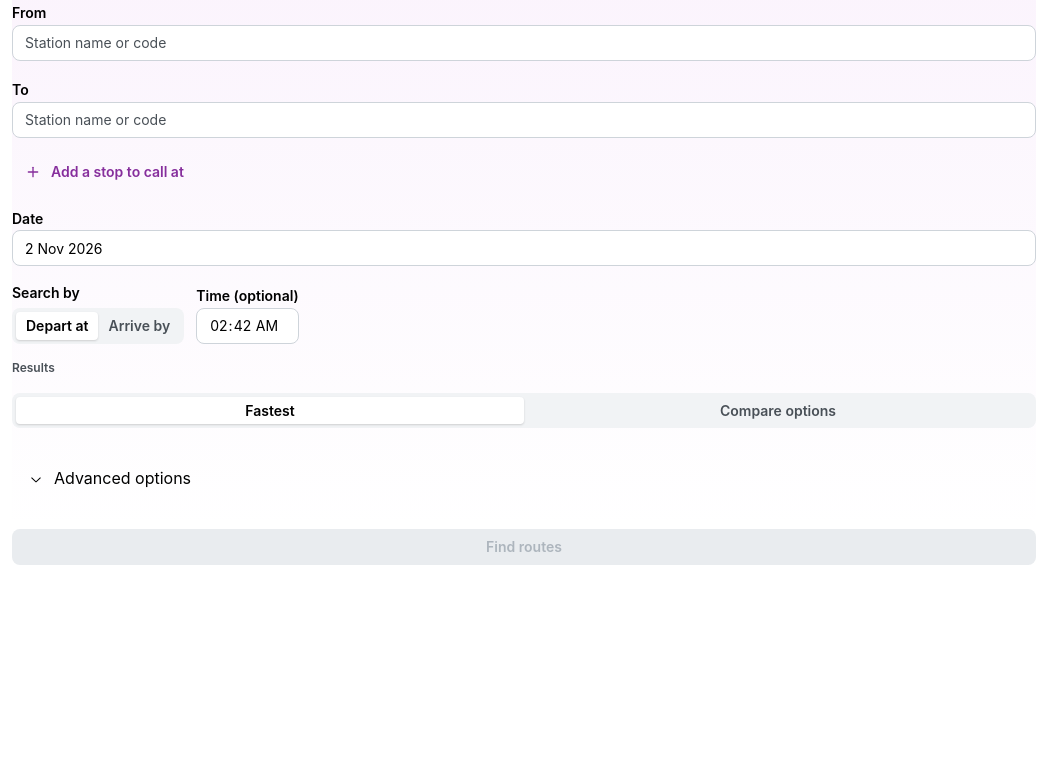
Test: PlanTripForm › disables Find routes until both origin and destination are entered
The image size is (1048, 768).
Expected: the button "Find routes" is disabled, x1=12 y1=529 x2=1036 y2=565
Type "EUS" into the dropdown labelled "From".
click(524, 43); type("EUS")  # box x1=12 y1=25 x2=1036 y2=61
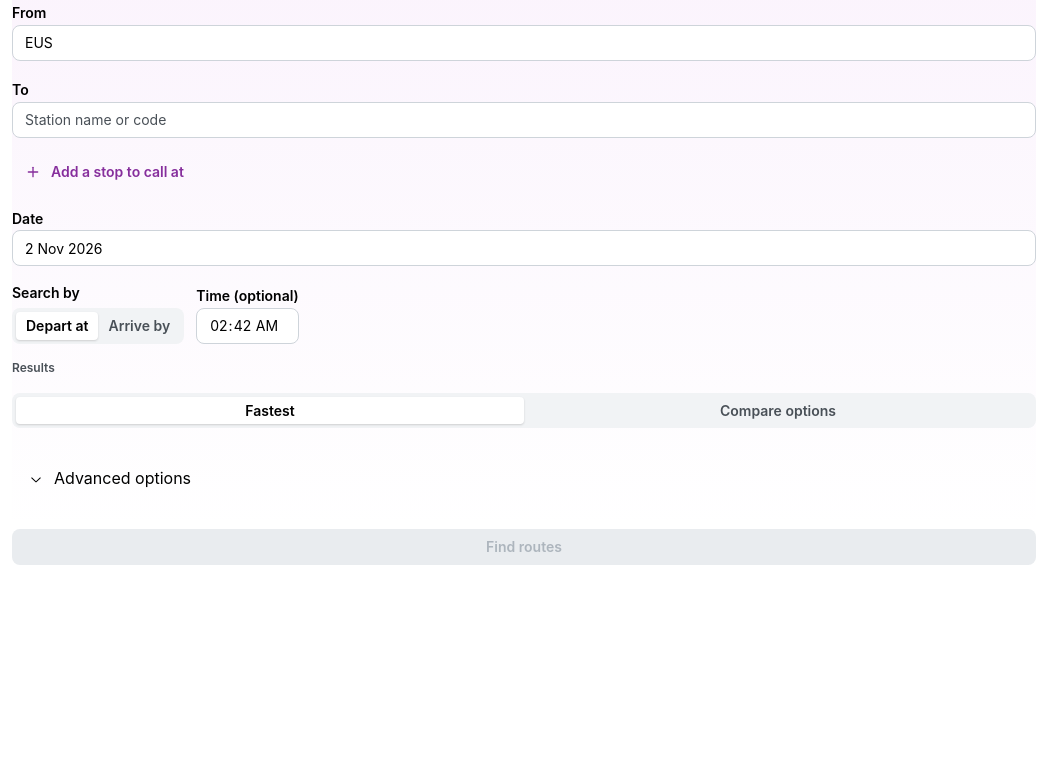
Expected: the button "Find routes" is disabled, x1=12 y1=529 x2=1036 y2=565
Type "MKC" into the dropdown labelled "To".
click(524, 120); type("MKC")  # box x1=12 y1=102 x2=1036 y2=138
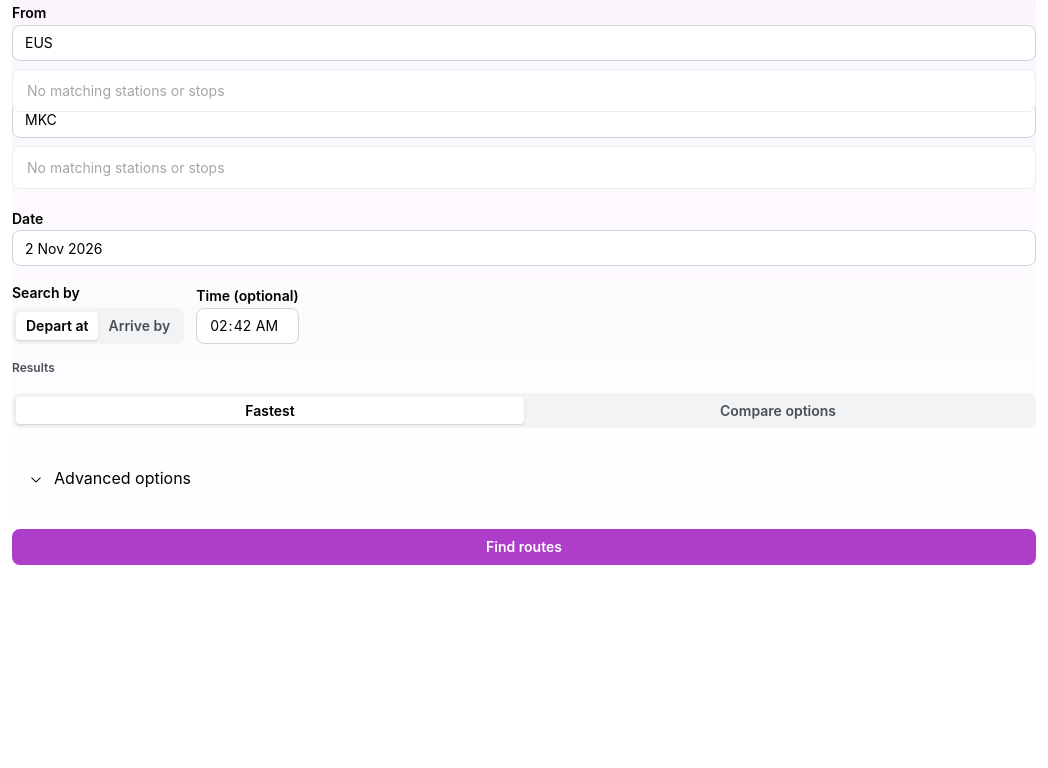
Result: the button "Find routes" is enabled at x1=12 y1=529 x2=1036 y2=565
